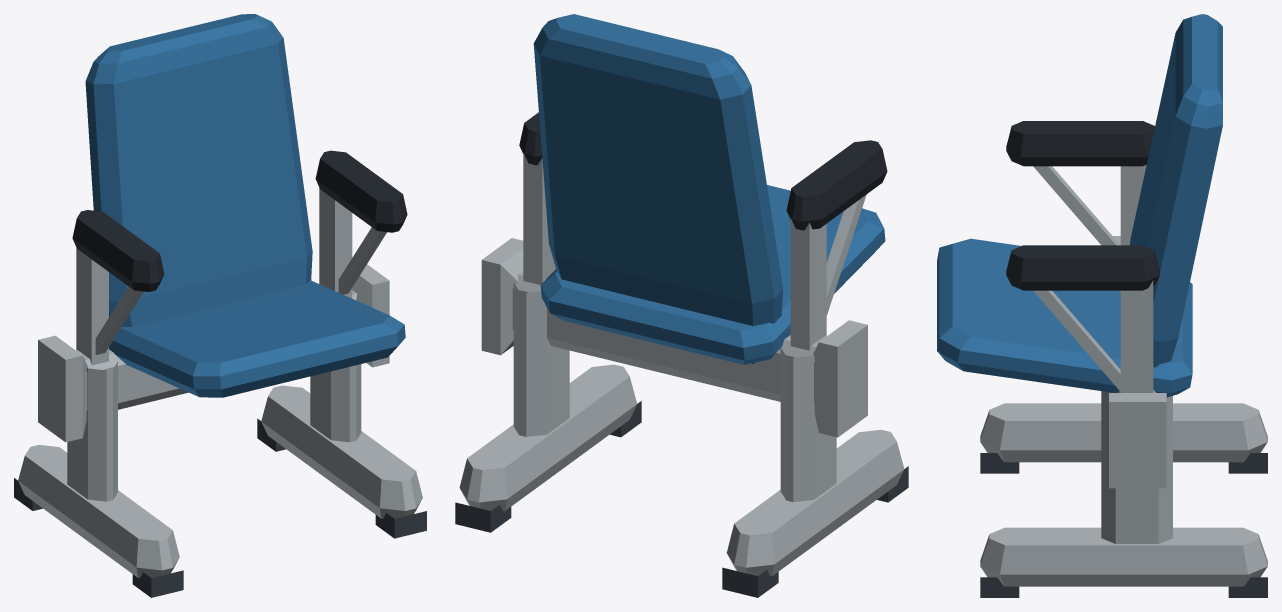
The model's file is waiting-room-chair-5e20cc.glb.
The picture shows the model from 3 angles, left to right: view 1: azimuth 30°, elevation 25°; view 2: azimuth 150°, elevation 25°; view 3: azimuth 270°, elevation 25°; orthographic projection. The views are drawn at different scales.
Visible parts, largest first — view 1: waiting-room-chair; view 2: waiting-room-chair; view 3: waiting-room-chair.
Part boxes in pixels (left/top/right/bottom): waiting-room-chair: left=14, top=14, right=426, bottom=597; waiting-room-chair: left=455, top=14, right=908, bottom=597; waiting-room-chair: left=937, top=14, right=1267, bottom=597.
Bounding box in the file's own units: 0.6 × 0.8053 × 0.5059.
